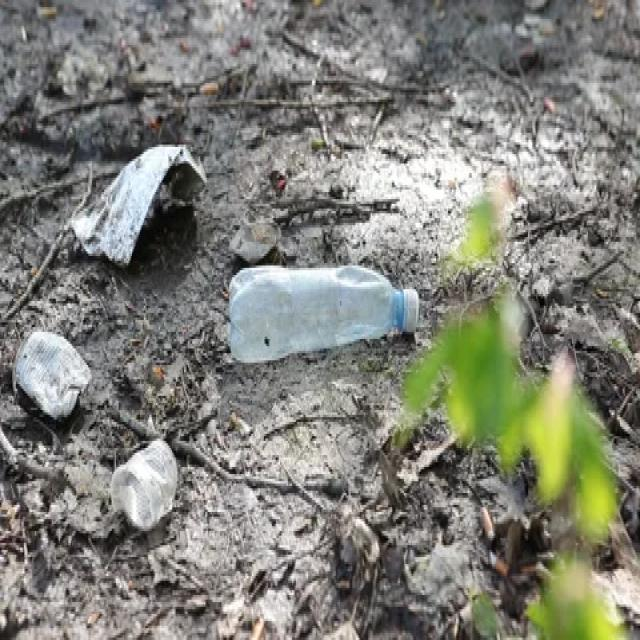plastic bottle: (206, 236, 438, 380)
